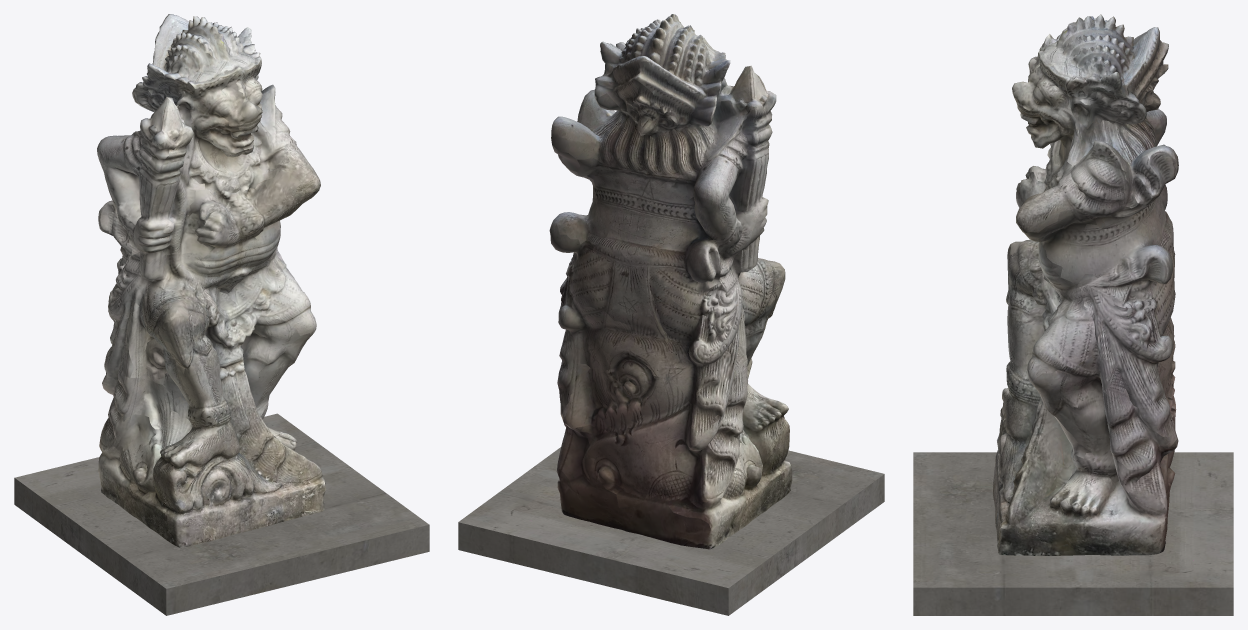
Rendered from dwarapala-high.glb.
3 views of the same model, side by side, from view 1: azimuth 30°, elevation 25°; view 2: azimuth 150°, elevation 25°; view 3: azimuth 270°, elevation 25° (orthographic). The views are drawn at different scales.
Parts seen in each view (by area): view 1: poly.001, Cube; view 2: poly.001, Cube; view 3: poly.001, Cube.
Boxes of the visible parts, x1,y1,x2,y2 form: poly.001: (97,14,326,547); Cube: (14,413,429,615); poly.001: (530,14,792,549); Cube: (458,447,884,615); poly.001: (992,14,1193,560); Cube: (913,452,1233,615).
Size of the model in its own units: 0.5468 by 1 by 0.5468.
Materials: 2 (2 with a texture image).
